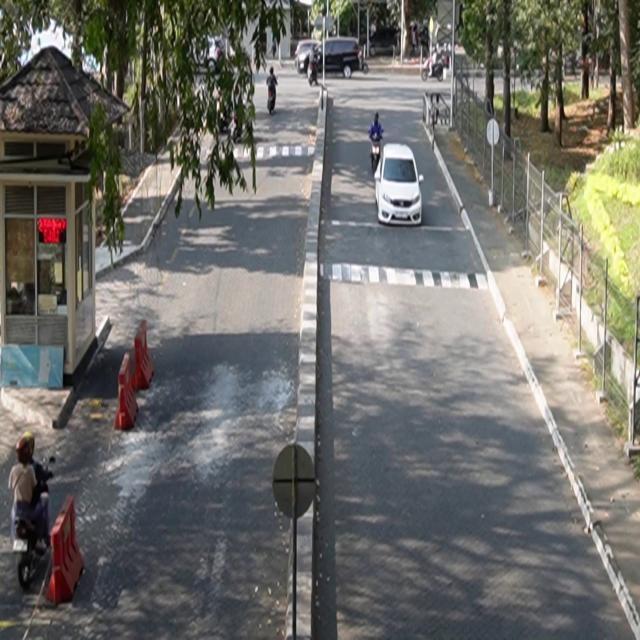car: (375, 143, 425, 227)
